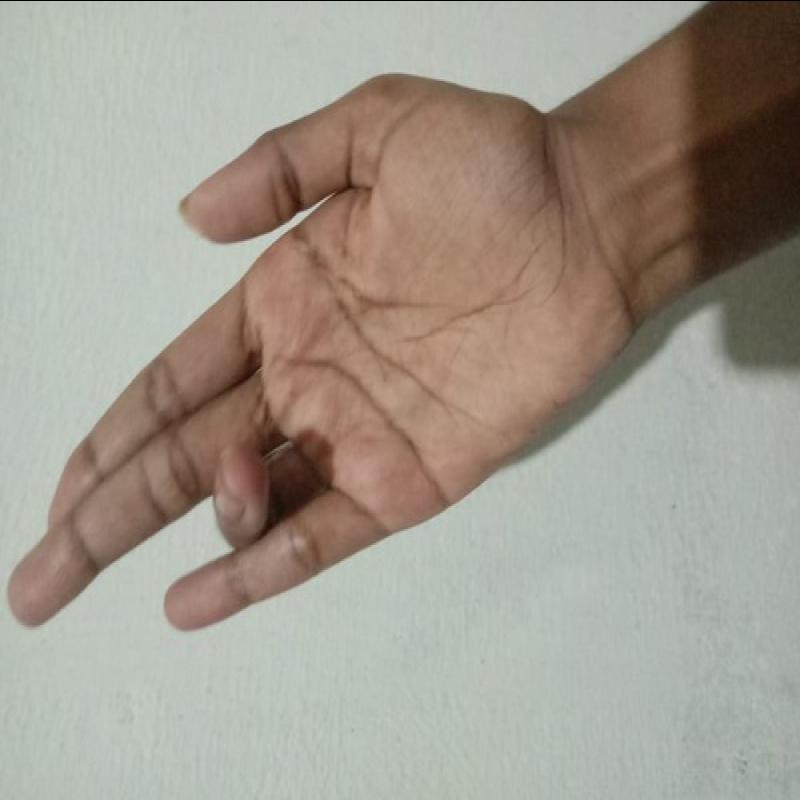Pathaaka: (2, 55, 638, 677)
